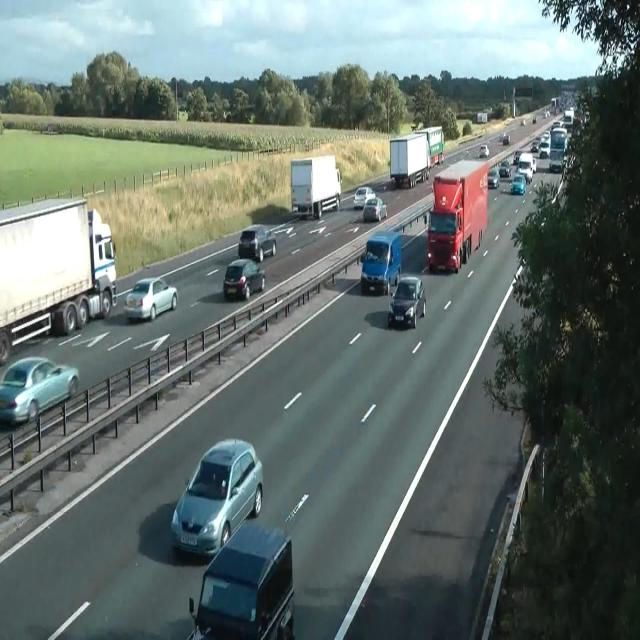bus: (0, 355, 78, 426), (123, 276, 178, 322), (388, 275, 426, 329), (222, 258, 266, 300), (363, 196, 387, 222), (353, 186, 376, 209), (510, 173, 526, 195), (487, 168, 499, 188), (498, 159, 511, 177), (538, 140, 550, 158), (530, 138, 540, 152), (479, 144, 489, 157), (500, 132, 510, 145), (513, 150, 522, 164), (532, 156, 536, 172), (520, 119, 526, 126), (532, 115, 536, 124)
jeep: (187, 521, 295, 638), (170, 436, 263, 558), (360, 232, 402, 294), (426, 206, 462, 273), (238, 223, 276, 261)
minibus: (0, 194, 117, 364), (426, 159, 488, 274), (290, 154, 342, 218), (390, 132, 430, 188), (411, 125, 445, 168), (549, 127, 567, 172), (564, 108, 574, 130), (477, 112, 487, 123), (551, 97, 559, 107)
